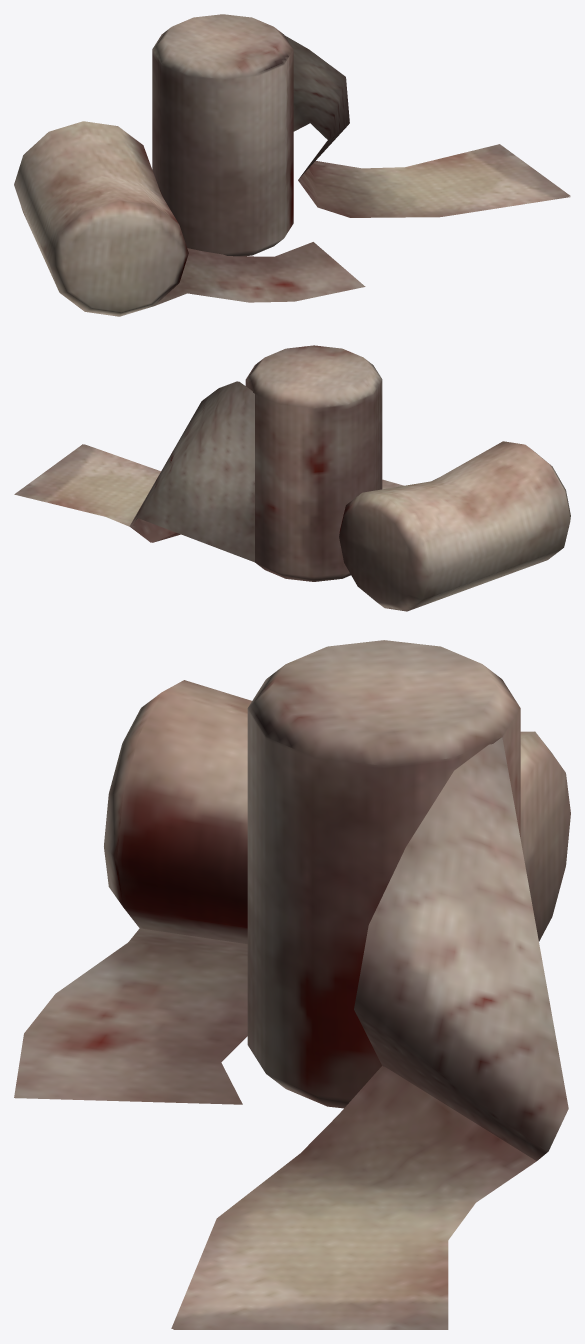
File: camp_bandage_01.fbx
The picture shows the model from 3 angles, top to bottom: view 1: azimuth 30°, elevation 25°; view 2: azimuth 150°, elevation 25°; view 3: azimuth 270°, elevation 25°; orthographic projection. The views are drawn at different scales.
Visible parts, largest first — view 1: camp_bandage_01; view 2: camp_bandage_01; view 3: camp_bandage_01.
Boxes of the visible parts, x1=… form: camp_bandage_01: x1=14, y1=14, x2=570, y2=316; camp_bandage_01: x1=14, y1=345, x2=570, y2=611; camp_bandage_01: x1=14, y1=640, x2=570, y2=1329.
Size of the model in its own units: 31.29 by 11.47 by 15.25.
